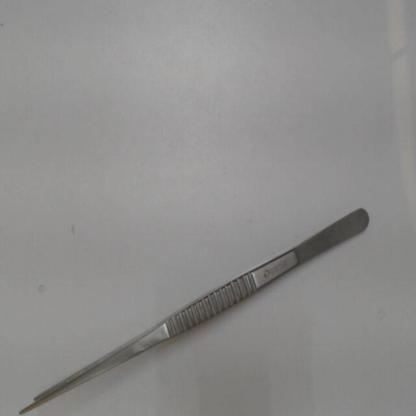DeBakey Dissector: (20, 172, 388, 415)
